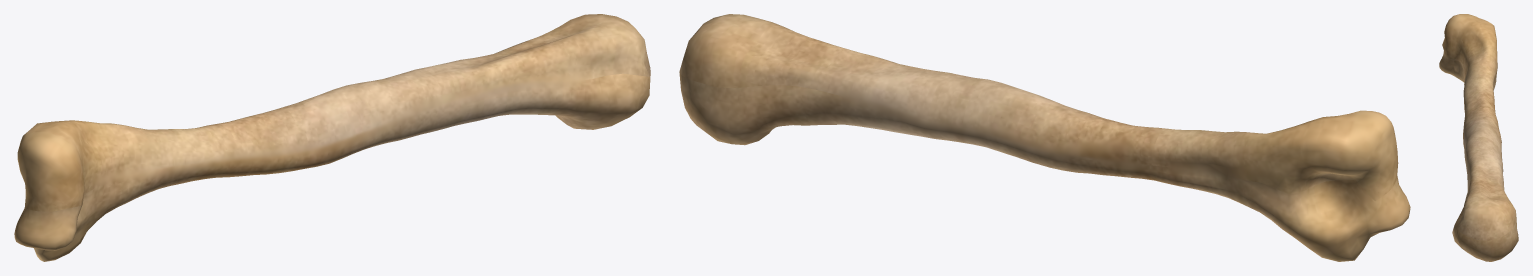
File: large_bone.glb
3 views of the same model, side by side, from view 1: azimuth 30°, elevation 25°; view 2: azimuth 150°, elevation 25°; view 3: azimuth 270°, elevation 25° (orthographic). The views are drawn at different scales.
Parts seen in each view (by area): view 1: Hueso grande; view 2: Hueso grande; view 3: Hueso grande.
Boxes of the visible parts, x1,y1,x2,y2 form: Hueso grande: (14,14,650,261); Hueso grande: (679,14,1410,261); Hueso grande: (1439,14,1518,261).
Bounding box in the file's own units: 1.31 × 0.2769 × 0.2407.
Materials: 1 (1 with a texture image).
